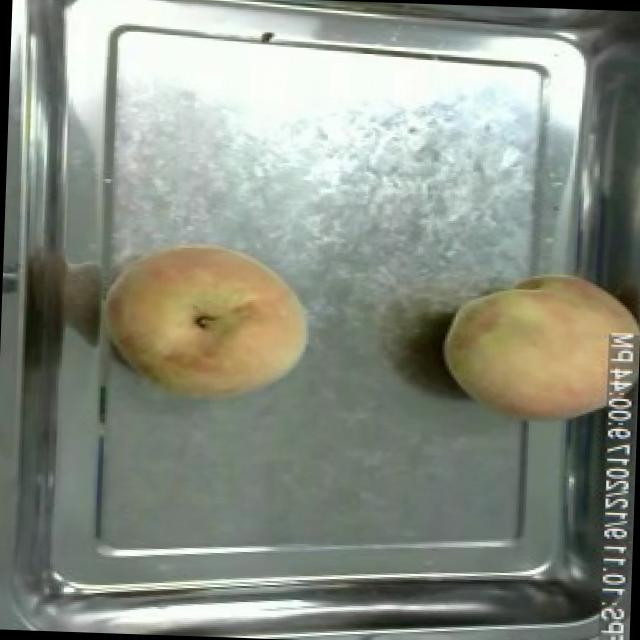Fruit: (101, 230, 318, 412), (430, 266, 640, 433)
